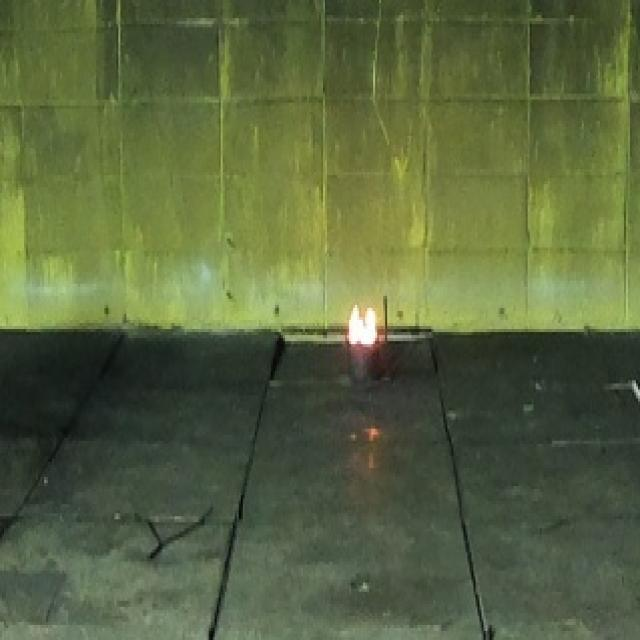Fire: (348, 304, 378, 346)
